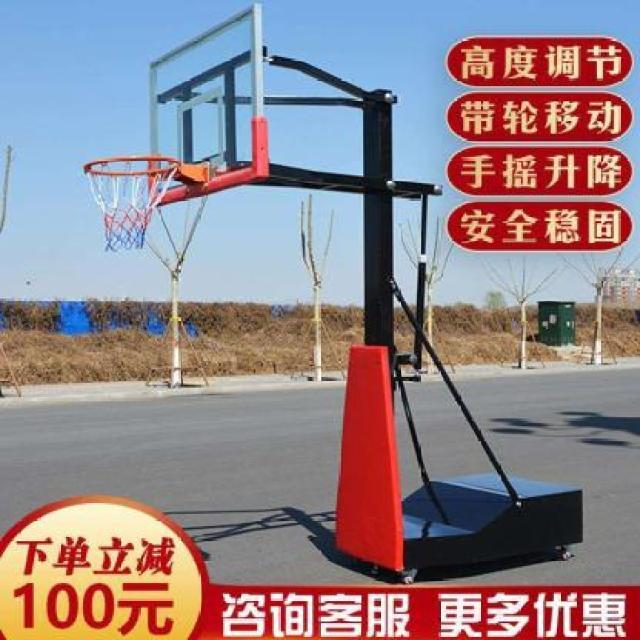rim: (80, 156, 180, 252)
